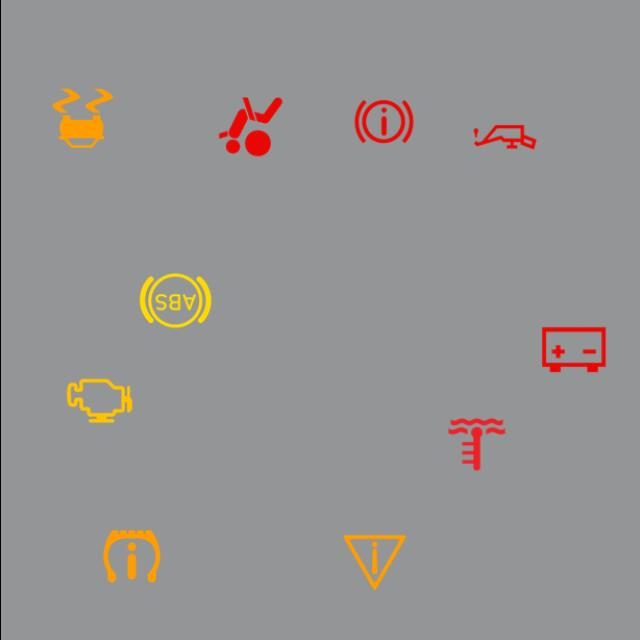Anti Lock Braking System: (136, 262, 213, 340)
Braking System Issue: (344, 82, 422, 160)
Charging System Issue: (534, 311, 612, 388)
Check Engine: (59, 362, 138, 440)
Electronic Stability Problem -ESP-: (43, 80, 121, 158)
Engine Overheating Warning Light: (437, 406, 515, 484)
Low Engine Oil Warning Light: (465, 98, 543, 176)
Low Tire Pressure Warning Light: (92, 517, 170, 595)
Master warning light: (334, 524, 412, 602)
SRS-Airbag: (210, 88, 288, 166)
